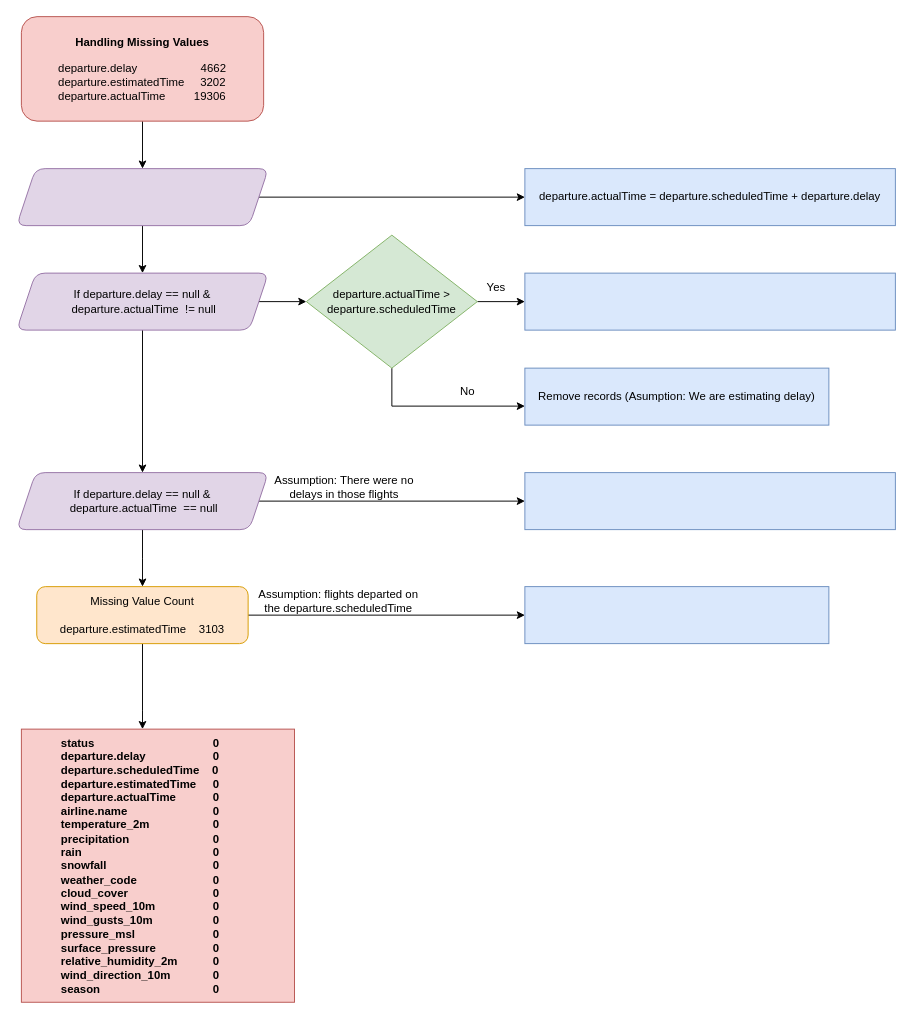
Some shapes in this 912 by 1019 pixel diagram are drawn without their labels. The shapes that lost their labels are listed below. From the top down, each one's box as (x1, y1, x2, y2) in pixels, then its label:
(16, 168, 268, 226): If departure.actualTime == null & departure.delay != null
(524, 272, 895, 330): departure.delay = departure.actualTime - departure.scheduledTime
(524, 472, 895, 530): departure.delay == 0 & departure.actualTime = departure.scheduledTime
(524, 586, 829, 644): departure.estimatedTime == departure.scheduledTime
